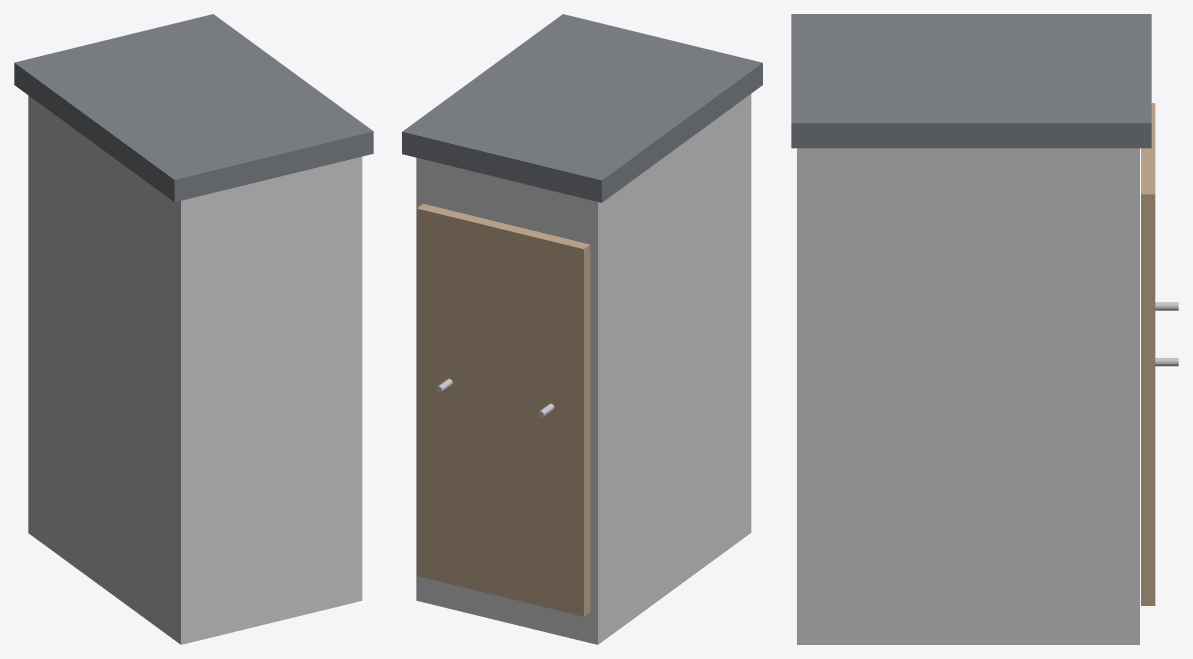
Rendered from kitchen-base-400.glb.
3 renders of one model, left to right at view 1: azimuth 30°, elevation 25°; view 2: azimuth 150°, elevation 25°; view 3: azimuth 270°, elevation 25°, orthographic. The views are drawn at different scales.
Parts seen in each view (by area): view 1: cabinet_0, worktop_2; view 2: cabinet_0, front_1, worktop_2; view 3: cabinet_0, worktop_2, front_1.
Part boxes in pixels (x1,y1,x2,y2): cabinet_0: (28,95,362,644); worktop_2: (14,14,373,202); cabinet_0: (416,94,751,644); front_1: (417,204,590,616); worktop_2: (402,14,762,202); cabinet_0: (797,148,1139,644); worktop_2: (791,14,1151,148); front_1: (1141,103,1155,605).
Size of the model in its own units: 0.4 by 0.9 by 0.6.
